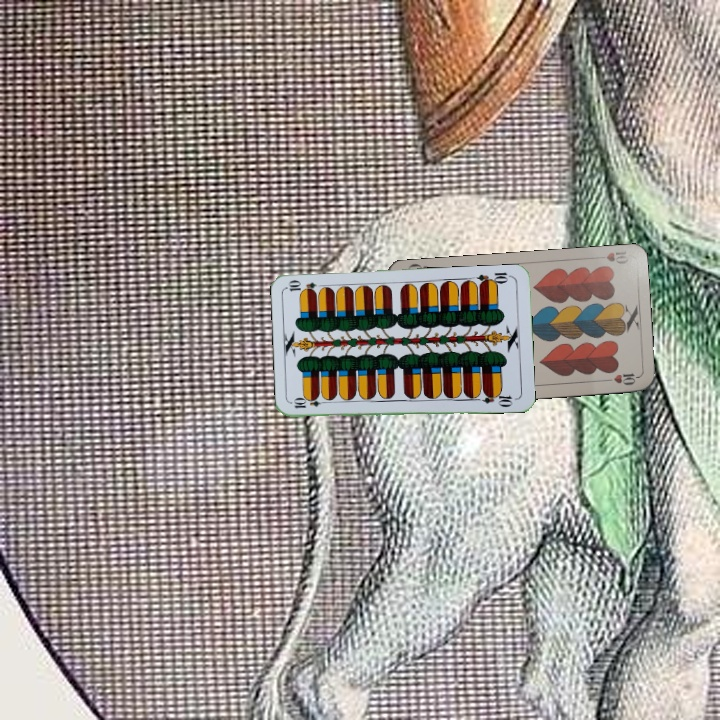E10: (473, 268, 514, 288), (290, 396, 330, 411)
H10: (601, 247, 631, 266)
